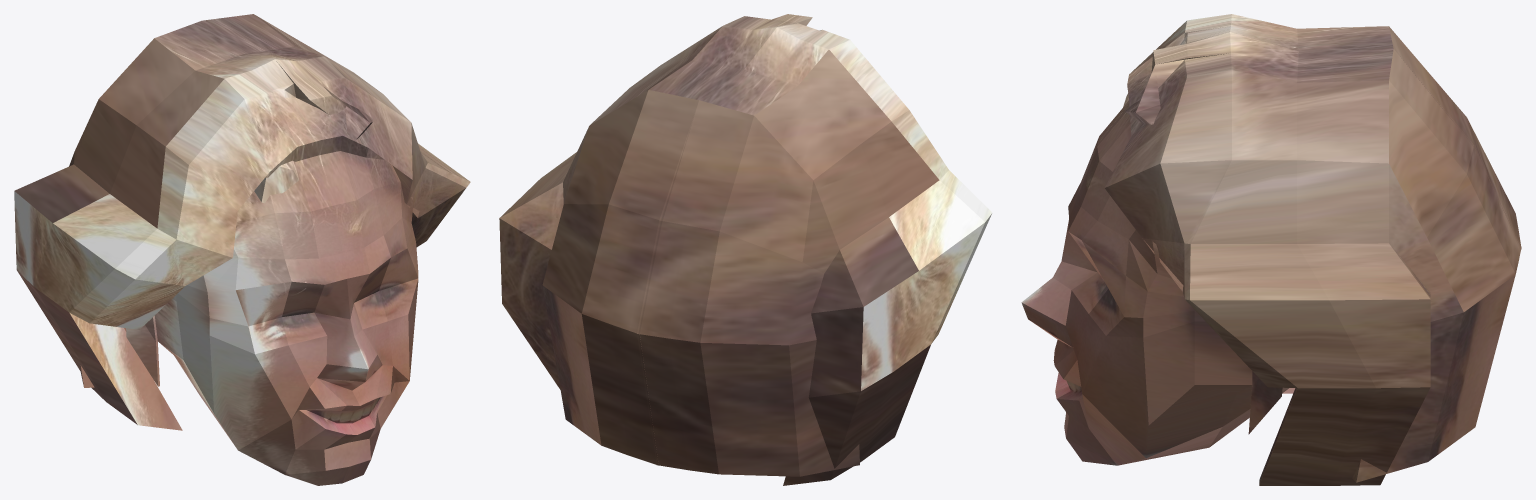
The model's file is nicole.glb.
3 renders of one model, left to right at view 1: azimuth 30°, elevation 25°; view 2: azimuth 150°, elevation 25°; view 3: azimuth 270°, elevation 25°, orthographic. The views are drawn at different scales.
Parts seen in each view (by area): view 1: Nicole; view 2: Nicole; view 3: Nicole.
Boxes of the visible parts, box(x1,y1,x2,y2) form: Nicole: box(14, 14, 470, 485); Nicole: box(499, 14, 992, 485); Nicole: box(1021, 14, 1521, 485).
Bounding box in the file's own units: 2.07 × 2.08 × 2.25.
1 material, 1 textured.
